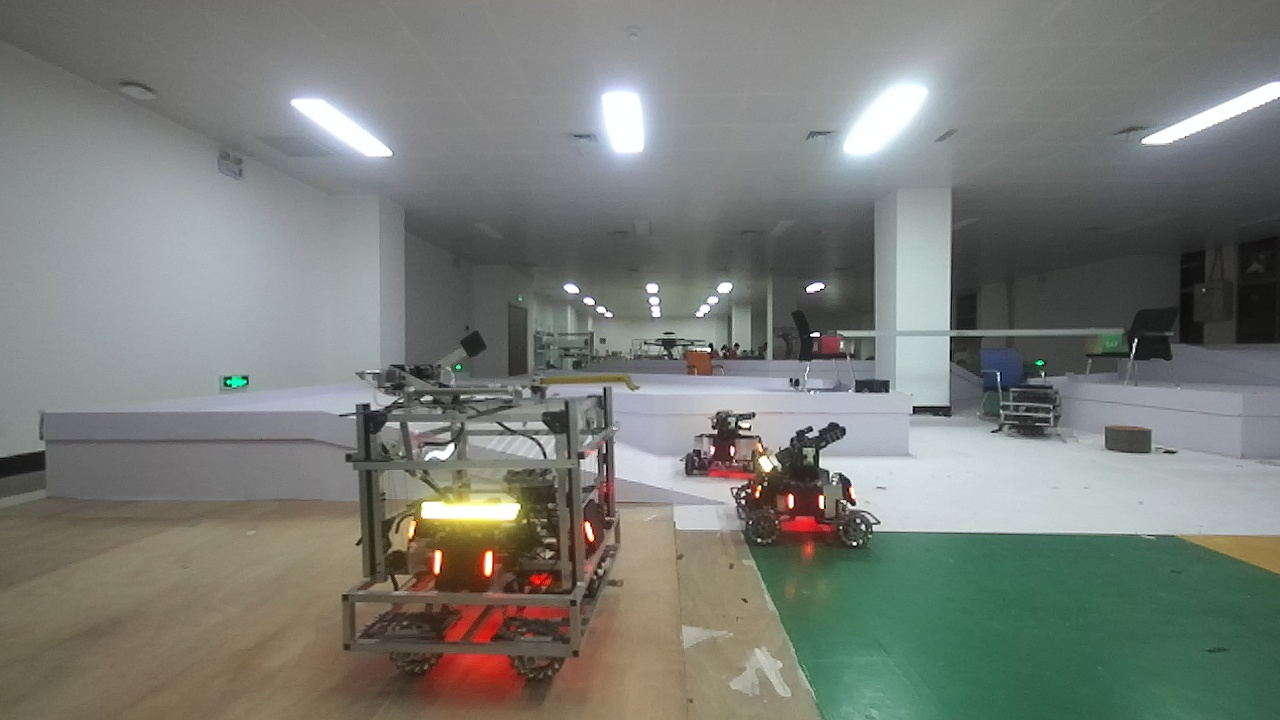car: (338, 379, 609, 691), (735, 429, 881, 554), (682, 411, 767, 477)
